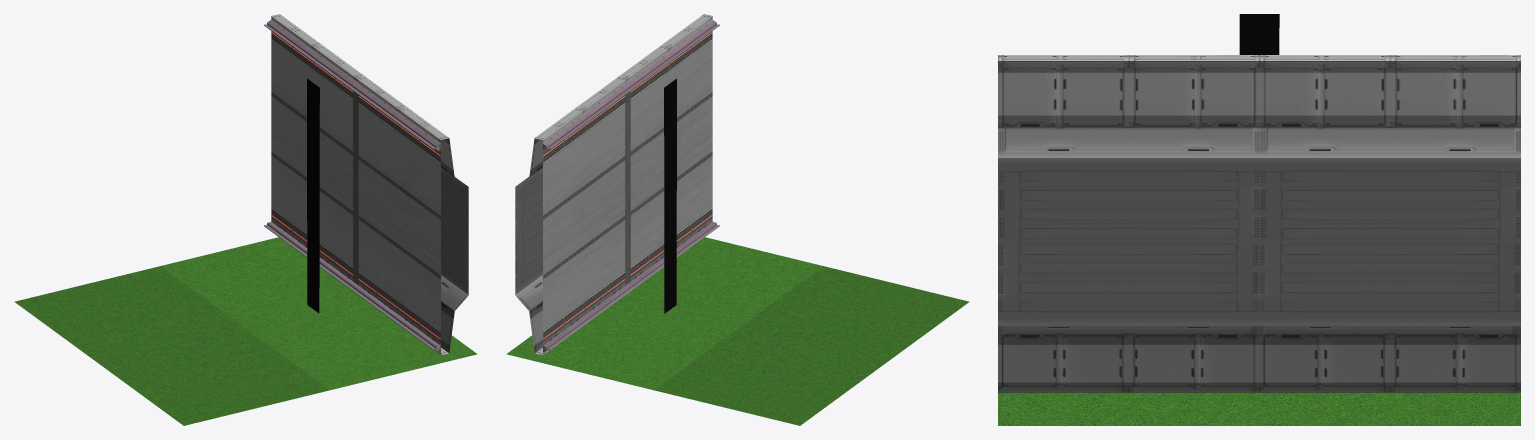
Rendered from T34 - Magnetic - Ground.fbx.
The picture shows the model from 3 angles, left to right: view 1: azimuth 30°, elevation 25°; view 2: azimuth 150°, elevation 25°; view 3: azimuth 270°, elevation 25°; orthographic projection. The views are drawn at different scales.
Parts seen in each view (by area): view 1: ground, straight_road13, standard_bridge5, wall, light_bloom_night, magnetic_road_lines; view 2: ground, straight_road13, standard_bridge5, wall, light_bloom_night, magnetic_road_lines; view 3: standard_bridge5, ground, light_bloom_night.
Part boxes in pixels (left/top/right/bottom): ground: left=14, top=237, right=477, bottom=425; straight_road13: left=271, top=31, right=440, bottom=345; standard_bridge5: left=271, top=14, right=468, bottom=355; wall: left=264, top=19, right=440, bottom=351; light_bloom_night: left=307, top=78, right=319, bottom=313; magnetic_road_lines: left=271, top=92, right=440, bottom=278; ground: left=506, top=237, right=969, bottom=425; straight_road13: left=543, top=31, right=712, bottom=345; standard_bridge5: left=515, top=14, right=712, bottom=355; wall: left=543, top=19, right=719, bottom=351; light_bloom_night: left=664, top=78, right=676, bottom=313; magnetic_road_lines: left=543, top=92, right=712, bottom=278; standard_bridge5: left=998, top=55, right=1520, bottom=392; ground: left=998, top=392, right=1520, bottom=425; light_bloom_night: left=1239, top=14, right=1279, bottom=54.
Size of the model in its own units: 6400 by 4756 by 6400.
